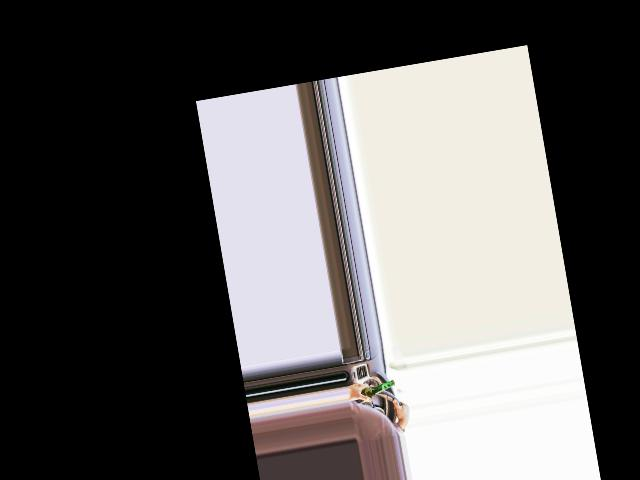beer: (350, 379, 397, 405)
